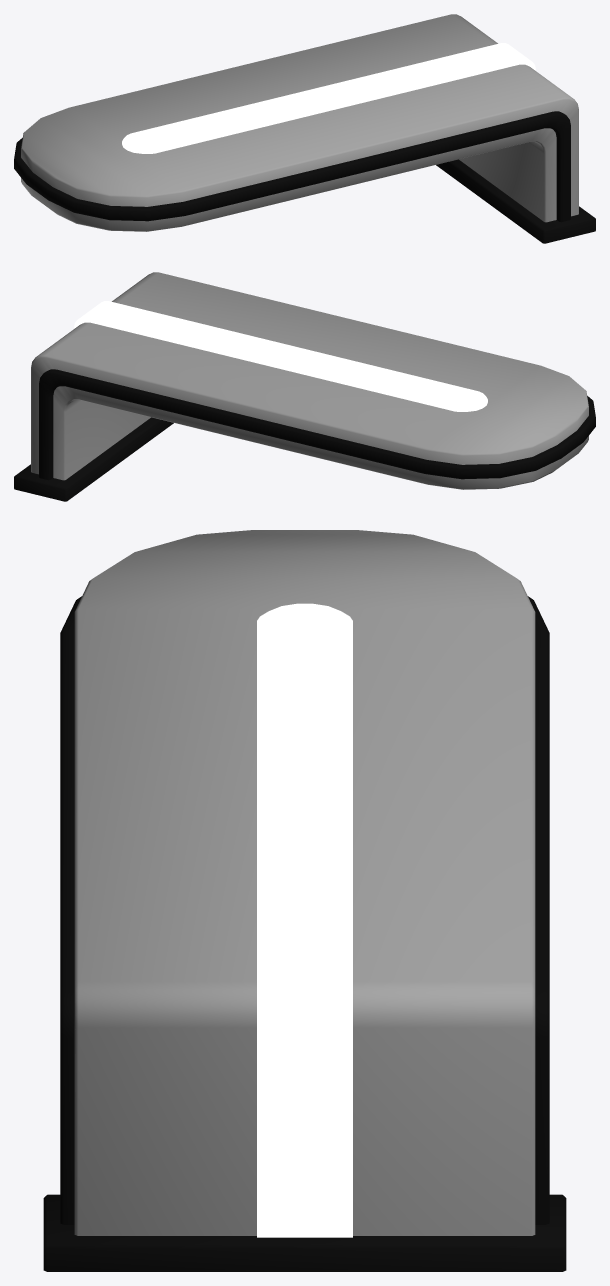
The model's file is BarTable.fbx.
3 views of the same model, one above another, from view 1: azimuth 30°, elevation 25°; view 2: azimuth 150°, elevation 25°; view 3: azimuth 270°, elevation 25° (orthographic). The views are drawn at different scales.
Visible parts, largest first — view 1: BarTable; view 2: BarTable; view 3: BarTable.
Boxes of the visible parts, <box> form: BarTable: <box>14,14,595,243</box>; BarTable: <box>14,272,595,501</box>; BarTable: <box>43,530,566,1271</box>.
Bounding box in the file's own units: 160 × 41.94 × 73.09.
Materials: 2 (1 with a texture image).
